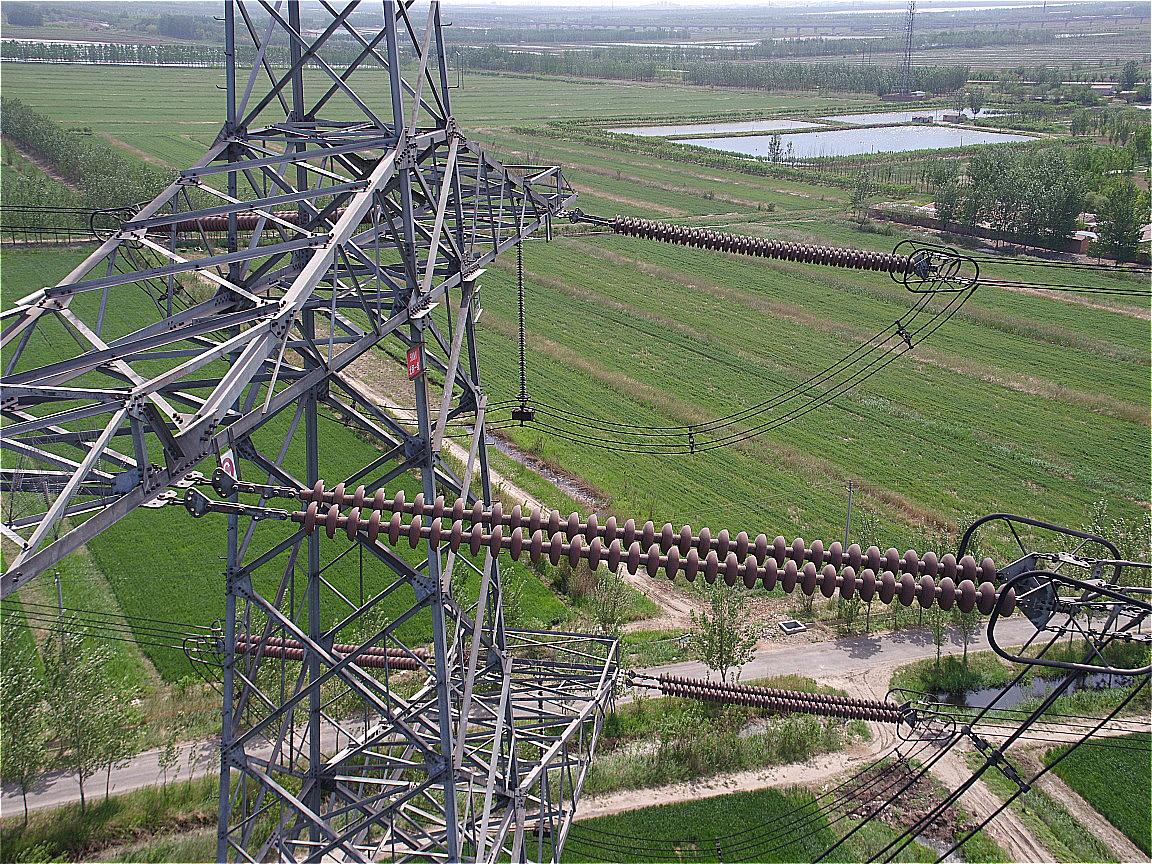insultor1: (304, 474, 1018, 622)
insultor2: (612, 211, 917, 278), (657, 671, 906, 727)
